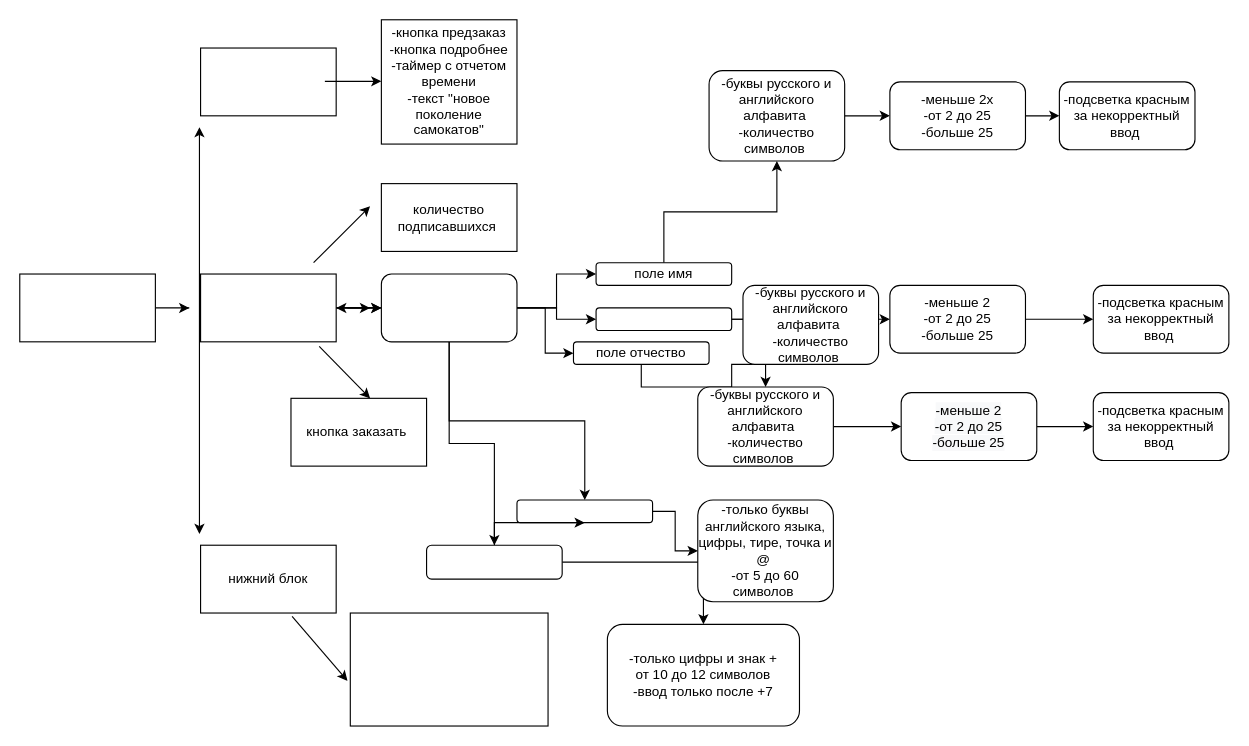
This 1249x746 diagram has some shape labels left out. The shapes that lost their labels are listed below. From the top down, each one's centre as x and y in pixels, then its label:
At point 267,81: "верхний блок".
At point 87,307: "Промо страница Яндекс Самокат".
At point 267,307: "форма предзаказа".
At point 448,307: "поля формы".
At point 663,319: "поле фамилия".
At point 584,511: "поле email".
At point 493,561: "номер телефона".
At point 448,669: "-язык пользовательское соглашение обратная связь -яндекс движение".
